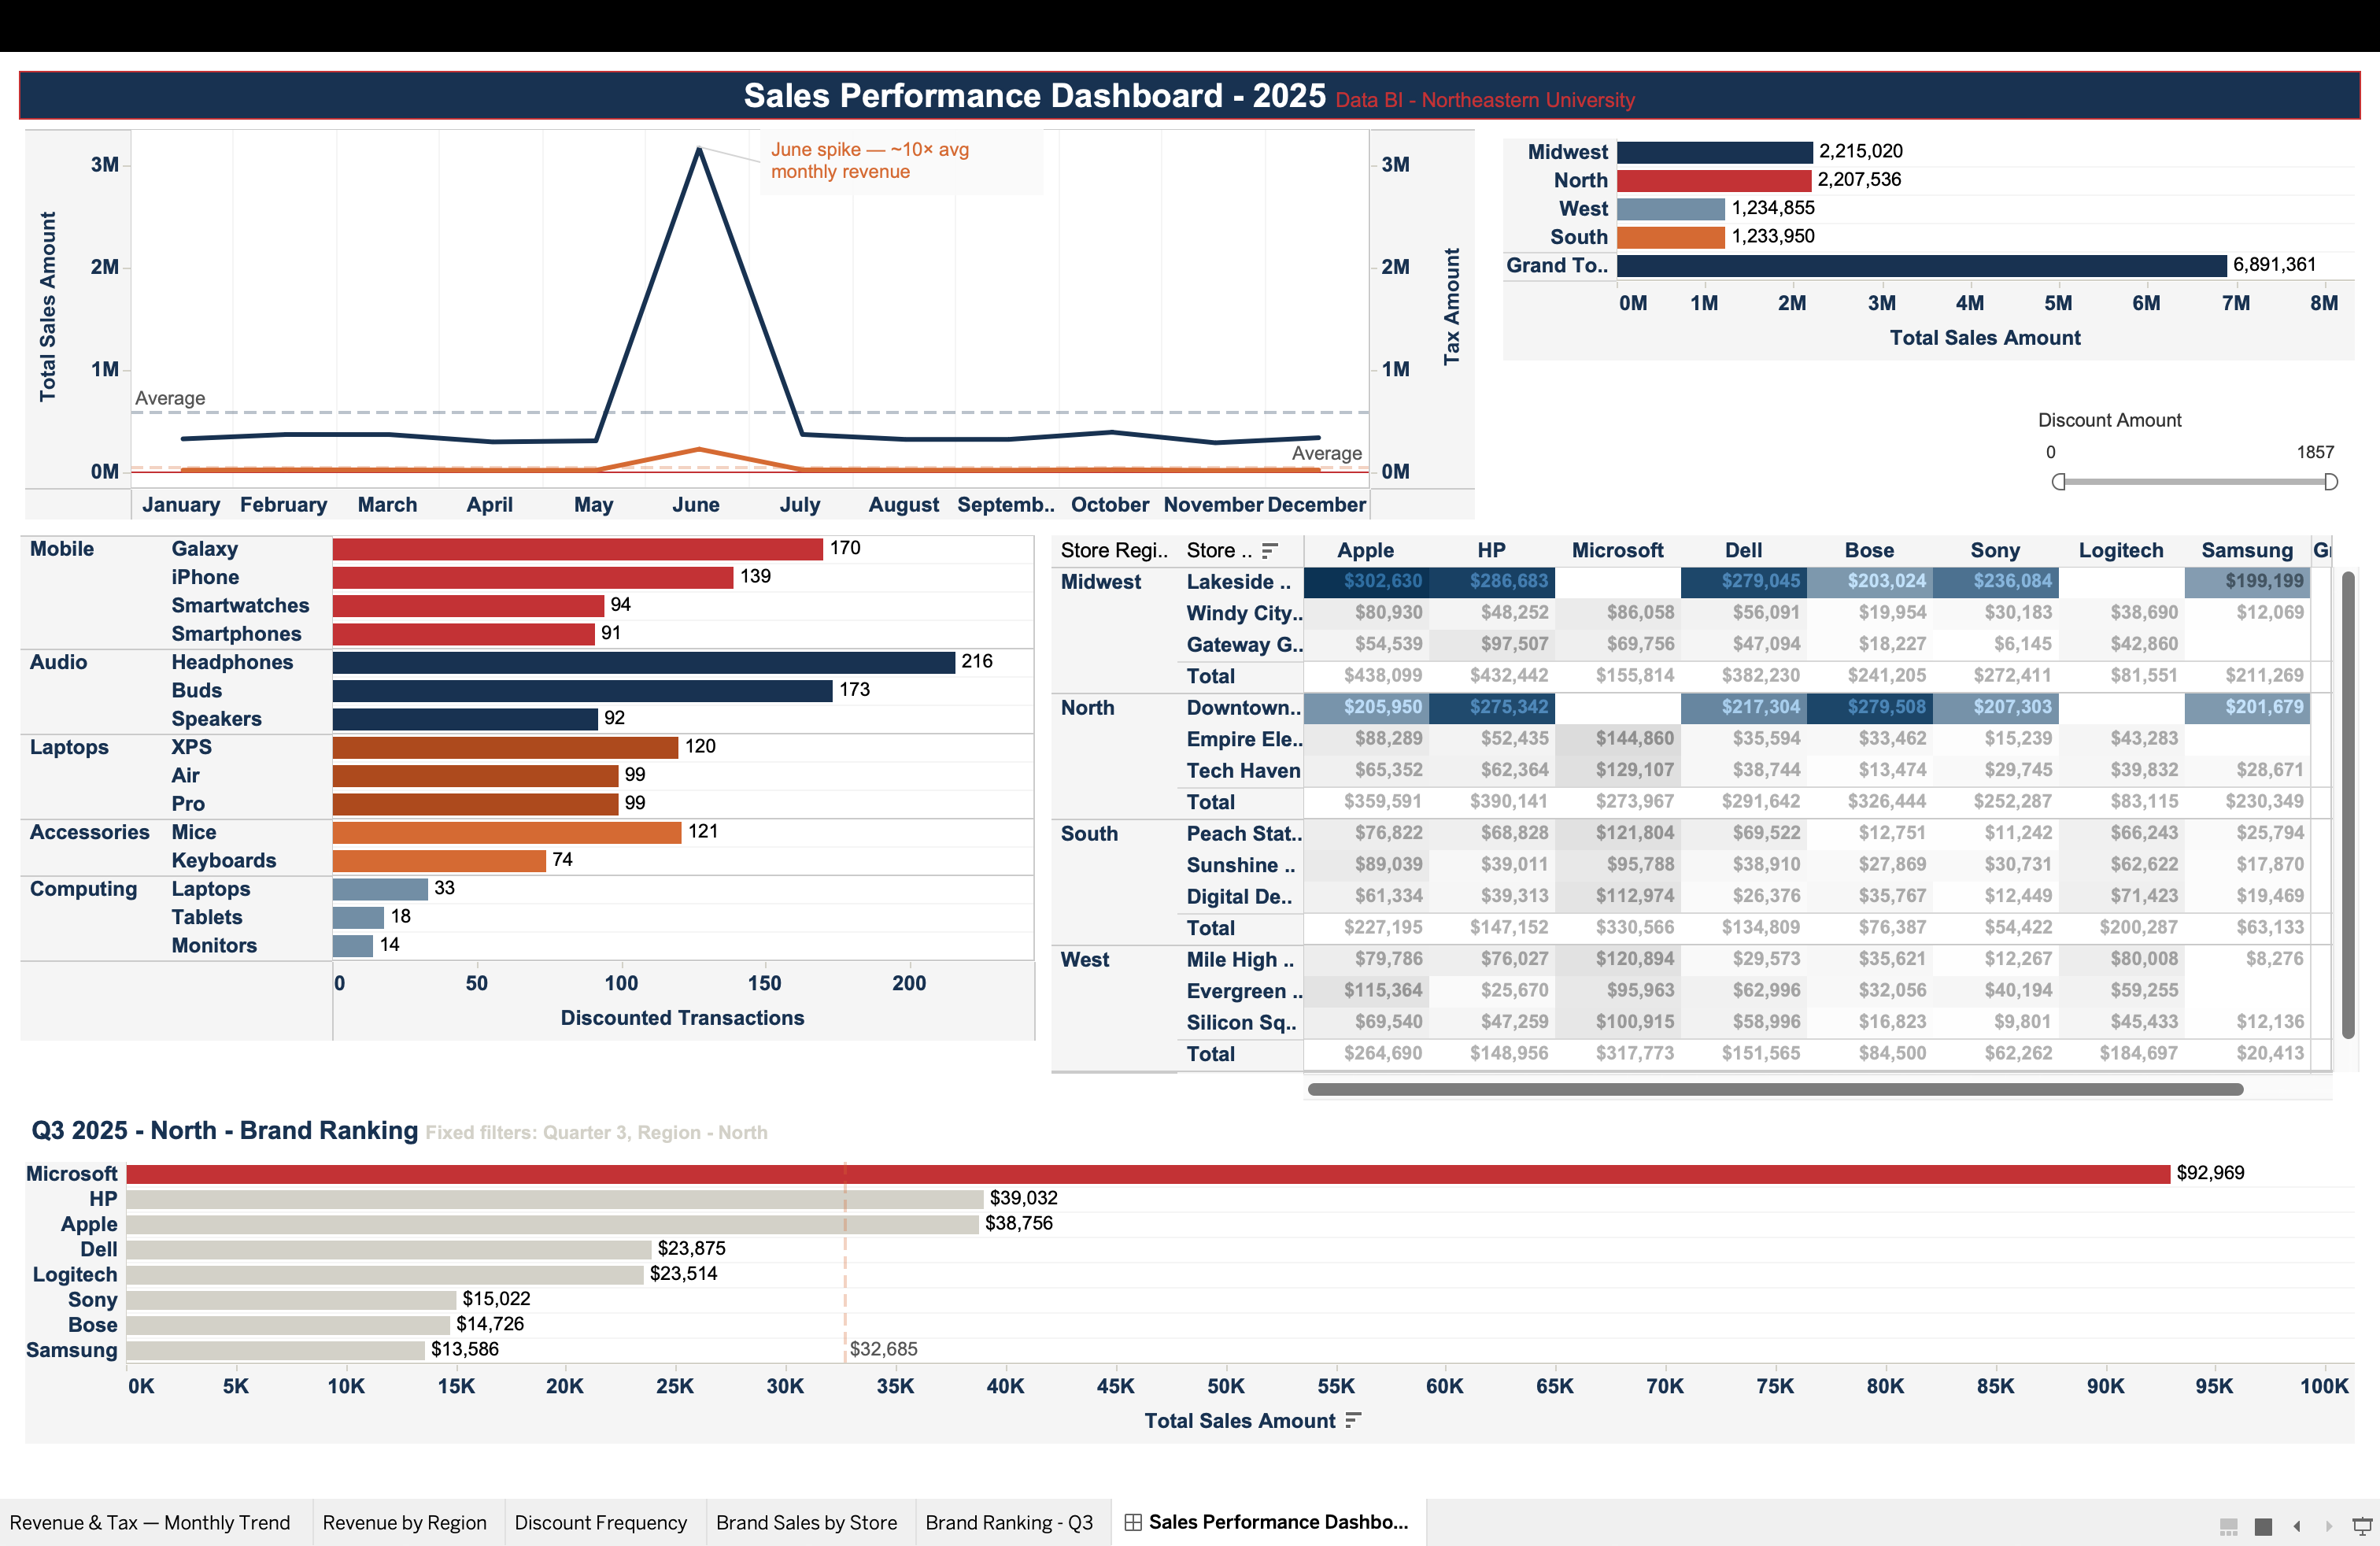

This screenshot's page, from the dashboard's own definition file:
{"tool":"tableau","page":{"name":"Sales Performance Dashboard 2025","canvas":[1000,1000],"units":"permille","ordinal":0},"visuals":[{"type":"text","box":[6.1,9.3,987.7,42]},{"type":"worksheet","title":"Revenue & Tax — Monthly Trend","mark":"Line","rows":["TotalSalesAmount","Tax_Amount"],"cols":["Date_Key"],"box":[6.1,51.4,619.8,281.2]},{"type":"worksheet","title":"Revenue by Region","mark":"Bar","rows":["Store_Region"],"cols":["vtsum"],"box":[625.9,51.4,367.9,281.2]},{"type":"filter","title":"Discount Frequency","param":"[federated.1q6zcoe0bphke612y44hj0rent08].[none:DiscountAmount:qk]","box":[856.4,247.4,129,77]},{"type":"worksheet","title":"Discount Frequency","mark":"Bar","rows":["Product_Category","Product_SubCategory"],"cols":["Calculation_1465992101595537408"],"box":[6.1,332.5,432.4,397.9]},{"type":"worksheet","title":"Brand Sales by Store","mark":"Square","rows":["Store_Region","Store_Name"],"cols":["Brand"],"box":[438.5,332.5,555.4,397.9]},{"type":"worksheet","title":"Brand Ranking - Q3","mark":"Bar","rows":["Brand"],"cols":["TotalSalesAmount"],"box":[6.1,730.4,987.7,260.2]}]}

Visuals, with their boxes on the dashboard's canvas, which has no fixed pixel size, in thousandths of its width and height (x1, y1, x2, y2). These are canvas units, not pixel positions in the 2380x1546 screenshot, which may show the page scaled, cropped or inside an application window:
text: <bbox>6, 9, 994, 51</bbox>
"Revenue & Tax — Monthly Trend" worksheet (Line marks): <bbox>6, 51, 626, 333</bbox>
"Revenue by Region" worksheet (Bar marks): <bbox>626, 51, 994, 333</bbox>
"Discount Frequency" filter: <bbox>856, 247, 985, 324</bbox>
"Discount Frequency" worksheet (Bar marks): <bbox>6, 332, 438, 730</bbox>
"Brand Sales by Store" worksheet (Square marks): <bbox>438, 332, 994, 730</bbox>
"Brand Ranking - Q3" worksheet (Bar marks): <bbox>6, 730, 994, 991</bbox>
